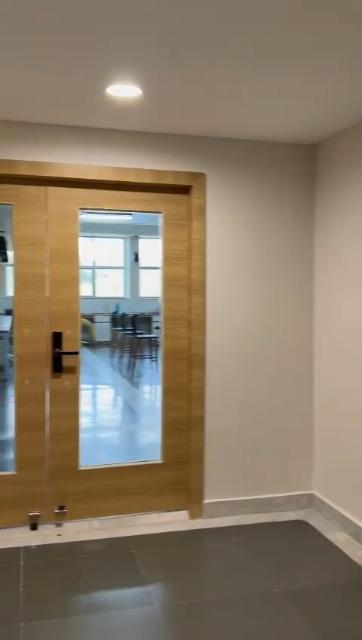door: (0, 159, 202, 511)
floor: (0, 540, 362, 640)
wall: (212, 135, 362, 491)
